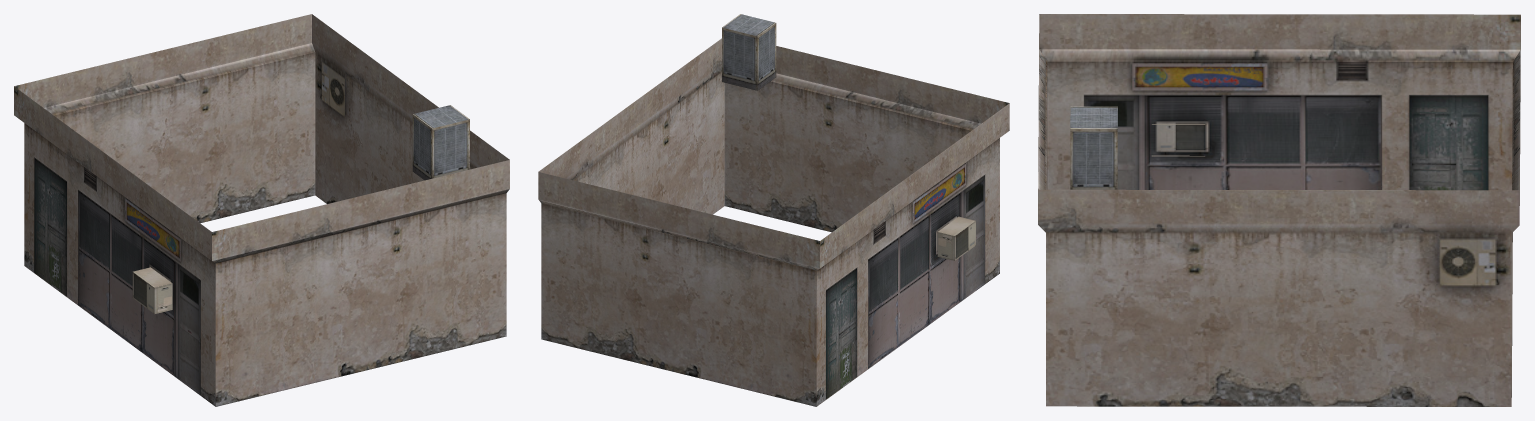
The model's file is building09.fbx.
3 renders of one model, left to right at view 1: azimuth 30°, elevation 25°; view 2: azimuth 150°, elevation 25°; view 3: azimuth 270°, elevation 25°, orthographic. The views are drawn at different scales.
Parts seen in each view (by area): view 1: Building_120; view 2: Building_120; view 3: Building_120.
Boxes of the visible parts, bbox=[...] form: Building_120: bbox=[14, 14, 509, 406]; Building_120: bbox=[538, 14, 1009, 406]; Building_120: bbox=[1038, 14, 1520, 406].
Bounding box in the file's own units: 620 × 414 × 692.
1 material, 1 textured.
